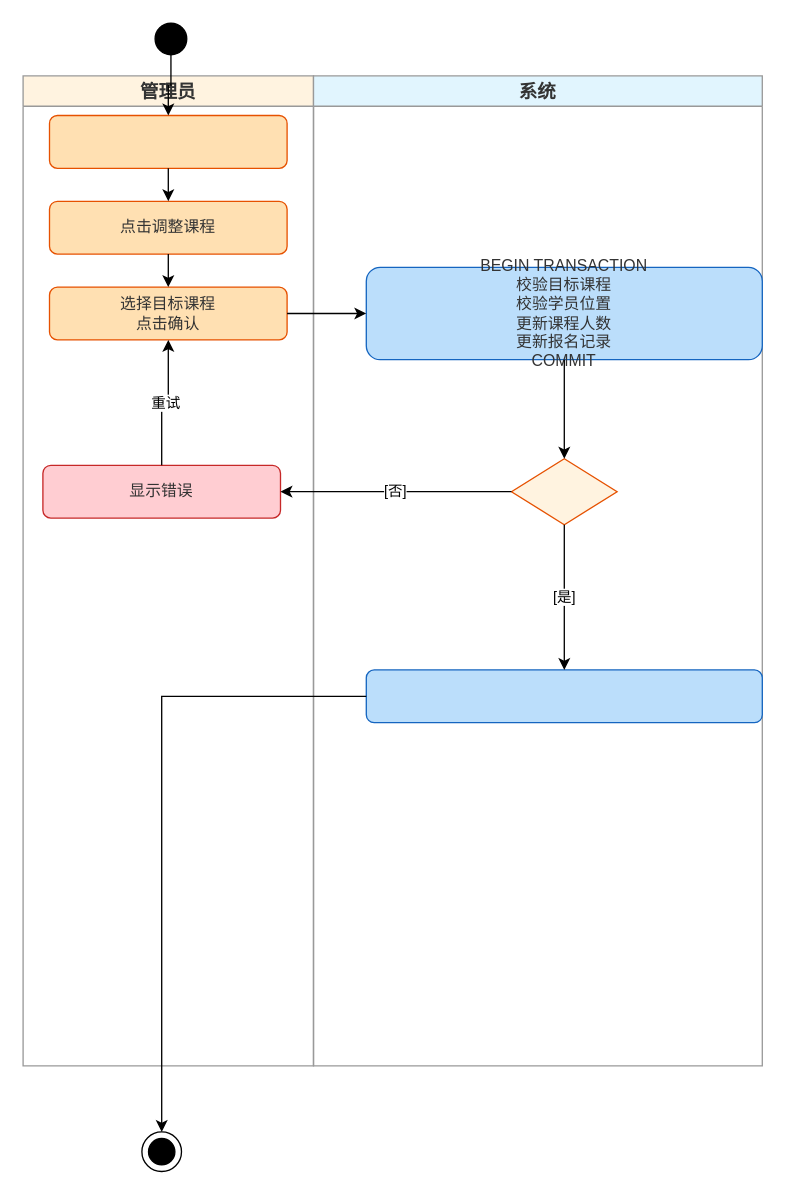
Some shapes in this 785 by 1195 pixel diagram are drawn without their labels. Each missing label, with the centre of its shape:
"事务 成功?" goes at pixel 563 491.
"刷新学员列表" goes at pixel 563 696.
"进入课程详情" goes at pixel 167 141.
